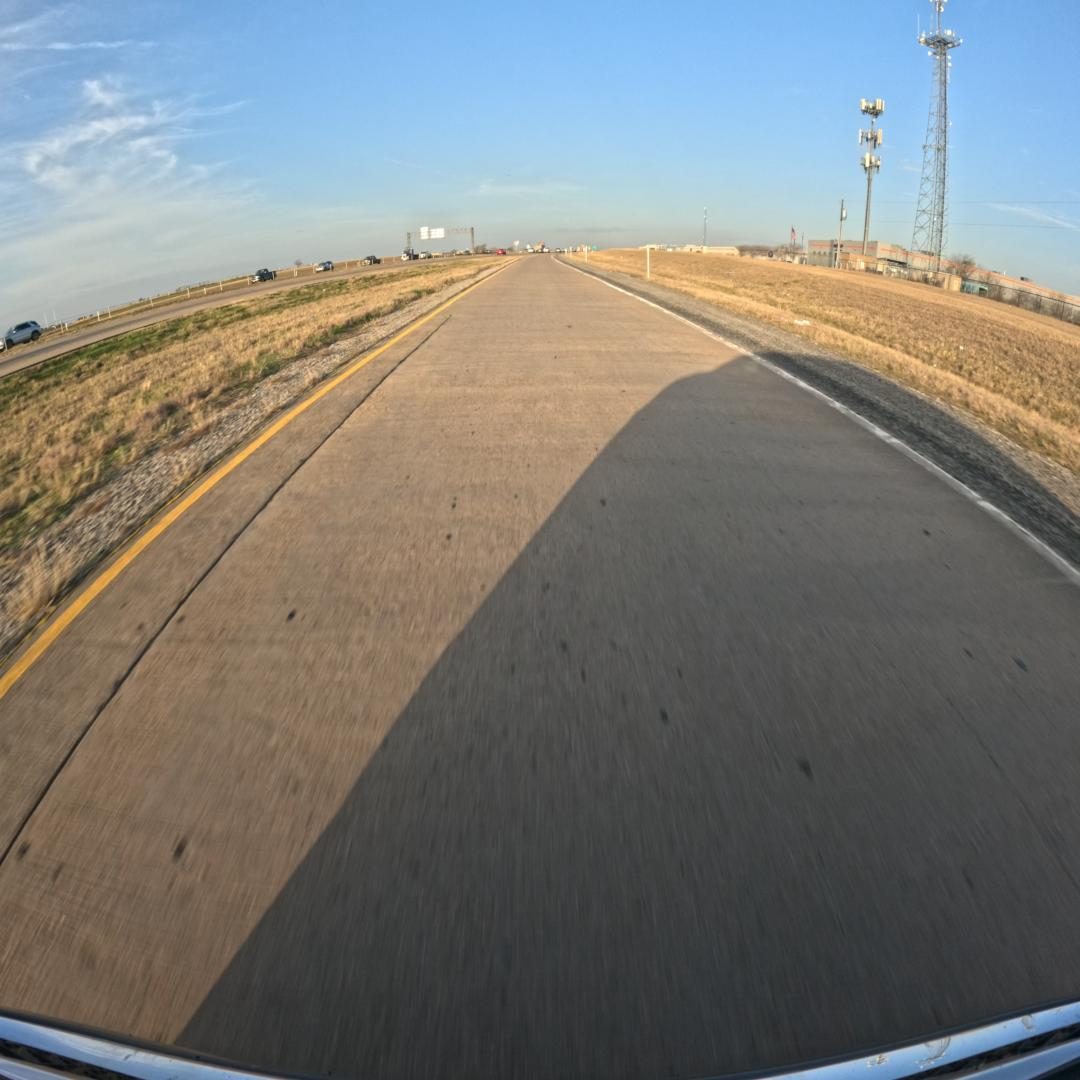lane0: (0, 256, 1080, 1076)
